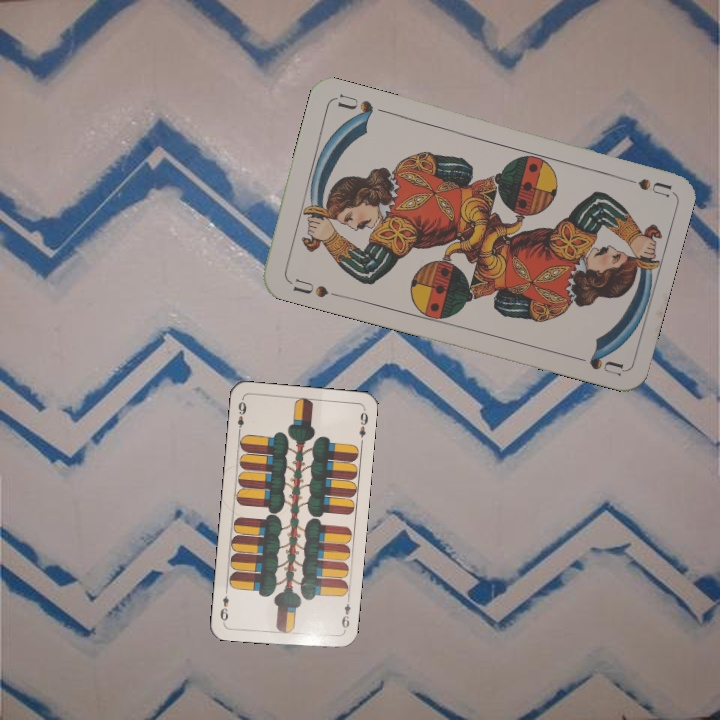E9: (233, 397, 249, 436), (338, 594, 353, 634)
SU: (613, 172, 672, 199), (284, 274, 342, 300)
